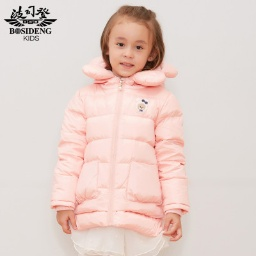face: (98, 2, 166, 78)
